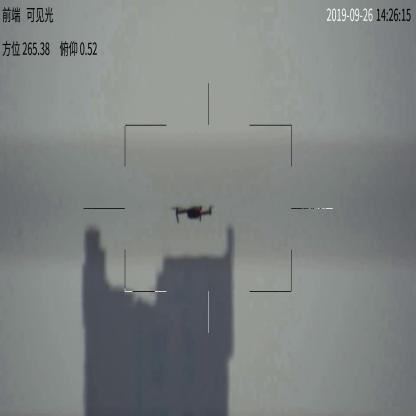uav: (172, 203, 219, 223)
